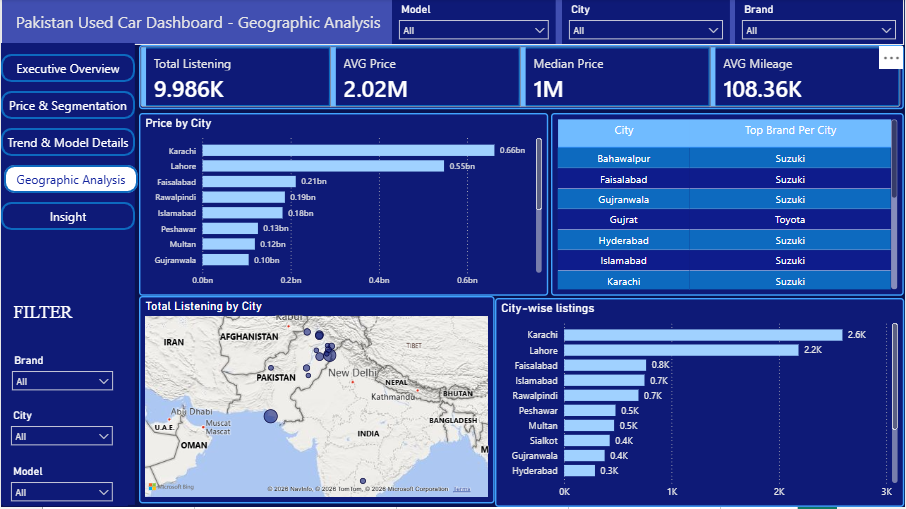

The page's visual inventory and layout, read from the dashboard file:
{"tool":"powerbi","page":{"name":"Geographic Analysis","canvas":[1280,720],"ordinal":3},"visuals":[{"type":"shape","box":[0,0,1280.2,64.8],"z":0,"group":"g1"},{"type":"shape","box":[0,62.9,189.7,654.5],"z":0,"group":"g2"},{"type":"cardVisual","fields":{"Data":["CountNonNull(Car_Dataset.Ad_ID)","Avg(Car_Dataset.Price_PKR)","Median(Car_Dataset.Price_PKR)1","Avg(Car_Dataset.Mileage_km)"]},"box":[195.6,65.2,1084.3,90.7],"z":0},{"type":"clusteredBarChart","title":"Price by City","fields":{"Category":["Car_Dataset.City"],"Y":["Sum(Car_Dataset.Price_PKR)"]},"box":[195.6,161.6,579.7,259.4],"z":1000},{"type":"shape","box":[2.4,339.6,177.3,380.4],"z":1000,"group":"g2"},{"type":"actionButton","box":[0,131,189.9,39.7],"z":2000,"group":"g2"},{"type":"clusteredBarChart","title":"City-wise listings","fields":{"Category":["Car_Dataset.City"],"Y":["CountNonNull(Car_Dataset.Ad_ID)"]},"box":[700.2,423.8,579.7,296.2],"z":2000},{"type":"tableEx","fields":{"Values":["Car_Dataset.City","Car_Dataset.Top Brand Per City"]},"box":[779.5,161.6,500.3,259.4],"z":3000},{"type":"slicer","fields":{"Values":["Car_Dataset.Brand"]},"box":[5.7,497.7,163,62.9],"z":3000,"group":"g2"},{"type":"actionButton","box":[0,183.2,189.9,39.7],"z":4000,"group":"g2"},{"type":"map","fields":{"Category":["Car_Dataset.City"],"Size":["CountNonNull(Car_Dataset.Ad_ID)"]},"box":[196,421,504,294],"z":4000},{"type":"group","id":"g1","title":"top bar","box":[0,0,1280,64.9],"z":5000},{"type":"slicer","fields":{"Values":["Car_Dataset.City"]},"box":[4.3,576.3,164.5,64.4],"z":5000,"group":"g2"},{"type":"group","id":"g2","title":"Group 1","box":[0,62.9,194.5,656.4],"z":6000},{"type":"actionButton","box":[4.3,235.5,189.9,39.7],"z":6000,"group":"g2"},{"type":"slicer","fields":{"Values":["Car_Dataset.Model"]},"box":[553.7,0,232.4,64.9],"z":7000,"group":"g1"},{"type":"slicer","fields":{"Values":["Car_Dataset.Model"]},"box":[4.3,655,164.5,62.9],"z":7000,"group":"g2"},{"type":"slicer","fields":{"Values":["Car_Dataset.City"]},"box":[794.7,0,237.5,64.9],"z":8000,"group":"g1"},{"type":"actionButton","box":[0,287.7,189.9,39.7],"z":8000,"group":"g2"},{"type":"slicer","fields":{"Values":["Car_Dataset.Brand"]},"box":[1040.7,0,237.5,64.9],"z":9000,"group":"g1"},{"type":"actionButton","box":[0,78.7,189.9,39.7],"z":9000,"group":"g2"}]}

Visuals, with their boxes in screenshot pixels (x1, y1, x2, y2), scaled from the page's 1280x720 canvas onto the 906x509 screenshot:
shape: select_region(0, 0, 905, 46)
shape: select_region(0, 44, 134, 507)
cardVisual - CountNonNull(Car_Dataset.Ad_ID) x Avg(Car_Dataset.Price_PKR): select_region(138, 46, 905, 110)
"Price by City" clusteredBarChart: select_region(138, 114, 549, 298)
shape: select_region(2, 240, 127, 508)
actionButton: select_region(0, 93, 134, 121)
"City-wise listings" clusteredBarChart: select_region(496, 300, 905, 508)
tableEx - Car_Dataset.City x Car_Dataset.Top Brand Per City: select_region(552, 114, 905, 298)
slicer - Car_Dataset.Brand: select_region(4, 352, 119, 396)
actionButton: select_region(0, 130, 134, 158)
map - Car_Dataset.City x CountNonNull(Car_Dataset.Ad_ID): select_region(139, 298, 495, 505)
"top bar" group: select_region(0, 0, 905, 46)
slicer - Car_Dataset.City: select_region(3, 407, 119, 453)
"Group 1" group: select_region(0, 44, 138, 508)
actionButton: select_region(3, 166, 137, 195)
slicer - Car_Dataset.Model: select_region(392, 0, 556, 46)
slicer - Car_Dataset.Model: select_region(3, 463, 119, 508)
slicer - Car_Dataset.City: select_region(562, 0, 731, 46)
actionButton: select_region(0, 203, 134, 231)
slicer - Car_Dataset.Brand: select_region(737, 0, 905, 46)
actionButton: select_region(0, 56, 134, 84)
